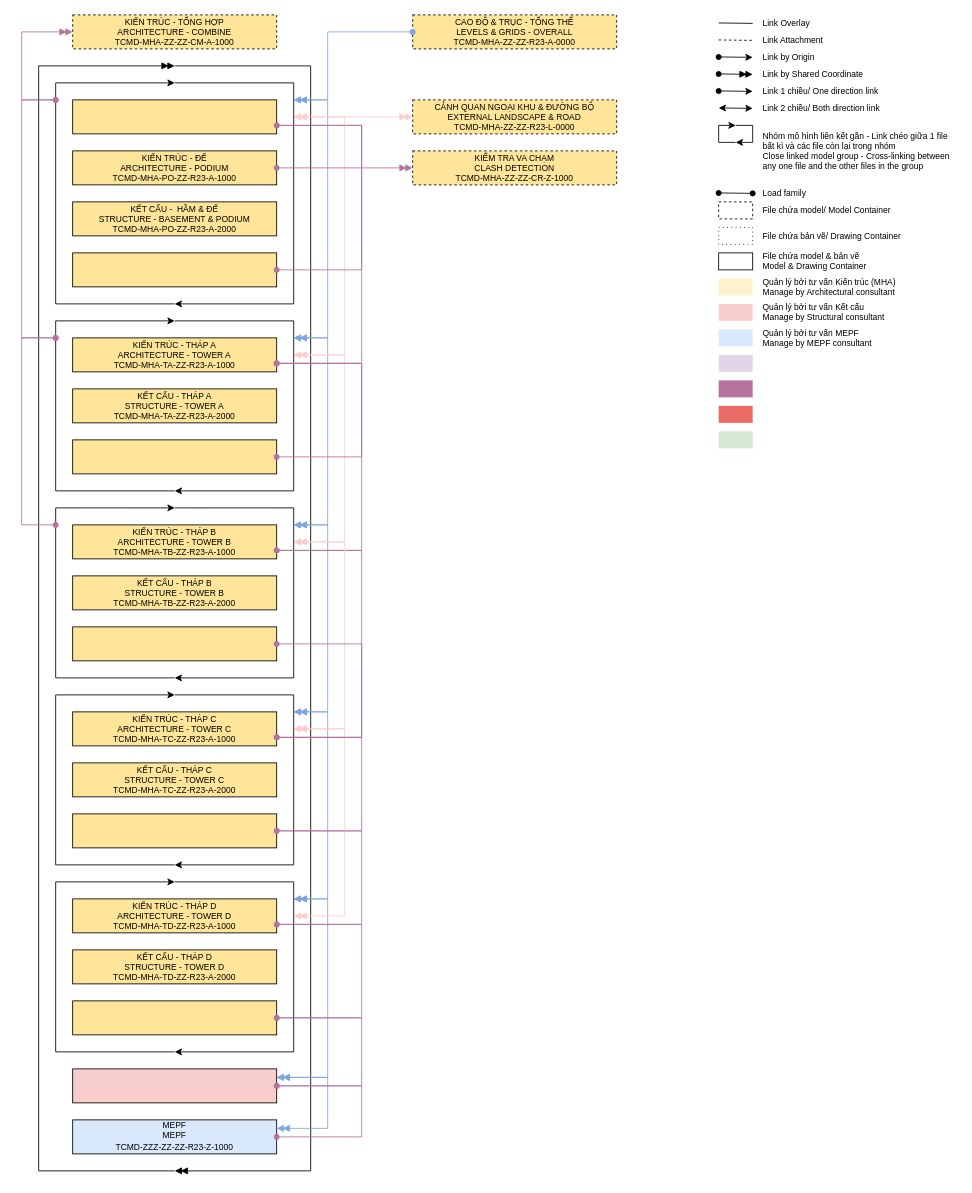
Image size: 972x1193. Some labels were removed from this diagram. The box of each missing label's shape, as (x1, y1, x2, y2) in pixels:
KIẾN TRÚC - HẦM ARCHITECTURE - BASEMENT TCMD-MHA-BA-ZZ-R23-A-1000: (72, 99, 277, 134)
KẾT CẤU STRUCTURE TCMD-ZZZ-ZZ-ZZ-R23-S-1000: (72, 1068, 277, 1103)
MẶT DỰNG - THÁP A FACADE - TOWER A TCMD-MHA-TA-ZZ-R23-A-3000: (72, 439, 277, 474)
MẶT DỰNG - THÁP B FACADE - TOWER B TCMD-MHA-TB-ZZ-R23-A-3000: (72, 626, 277, 661)
MẶT DỰNG - THÁP C FACADE - TOWER C TCMD-MHA-TC-ZZ-R23-A-3000: (72, 813, 277, 848)
MẶT DỰNG - THÁP D FACADE - TOWER D TCMD-MHA-TD-ZZ-R23-A-3000: (72, 1000, 277, 1035)
MẶT DỰNG - ĐẾ FACADE - PODIUM TCMD-MHA-PO-ZZ-R23-A-3000: (72, 252, 277, 287)
